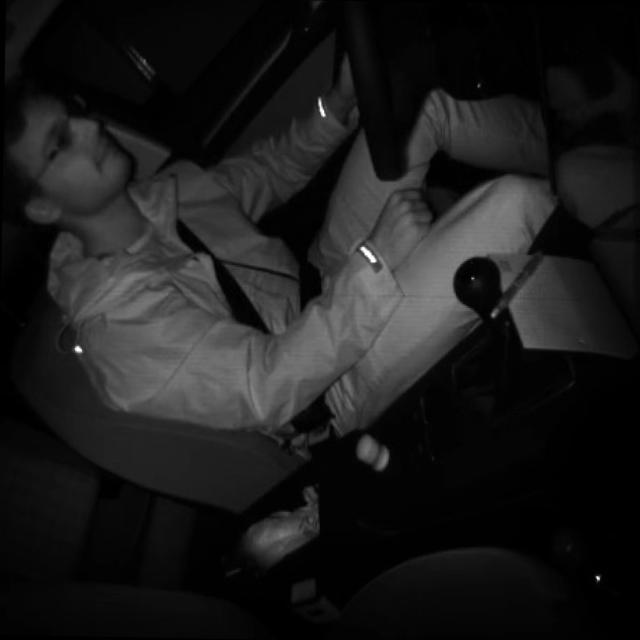pen: (488, 243, 546, 321)
